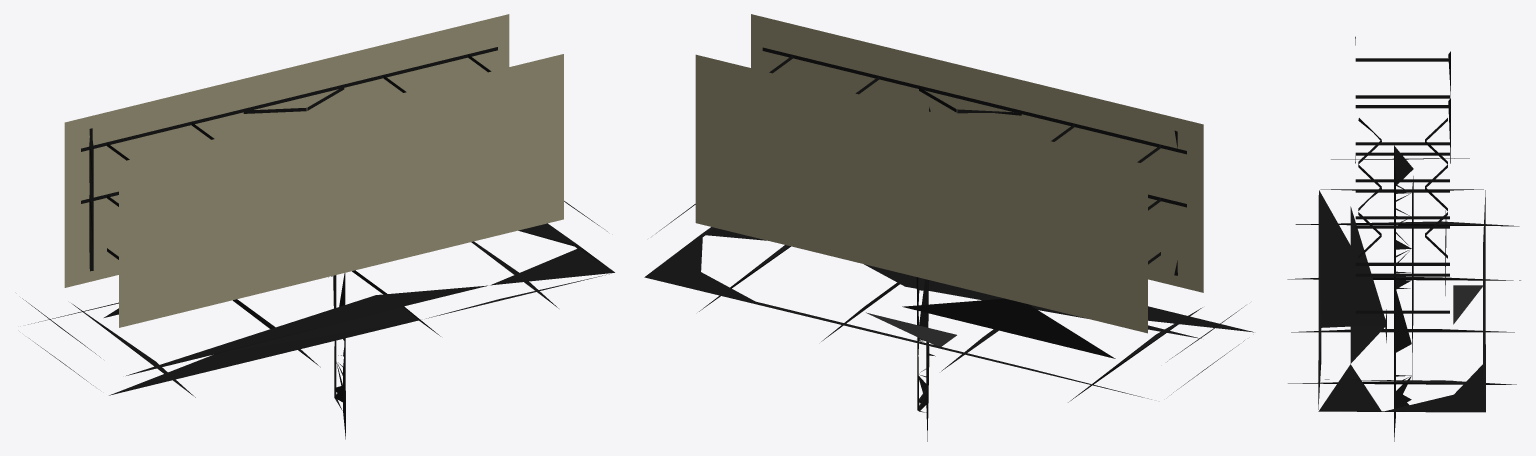
The model's file is billboard-tall.back-v1.lod2.glb.
3 views of the same model, side by side, from view 1: azimuth 30°, elevation 25°; view 2: azimuth 150°, elevation 25°; view 3: azimuth 270°, elevation 25° (orthographic). The views are drawn at different scales.
Visible parts, largest first — view 1: ADs_AD_0; view 2: ADs_AD_0; view 3: ADs_AD_0.
Boxes of the visible parts, bbox=[...] form: ADs_AD_0: bbox=[22, 14, 614, 439]; ADs_AD_0: bbox=[644, 14, 1253, 441]; ADs_AD_0: bbox=[1287, 36, 1520, 441].
Bounding box in the file's own units: 10.94 × 7.34 × 4.95.
